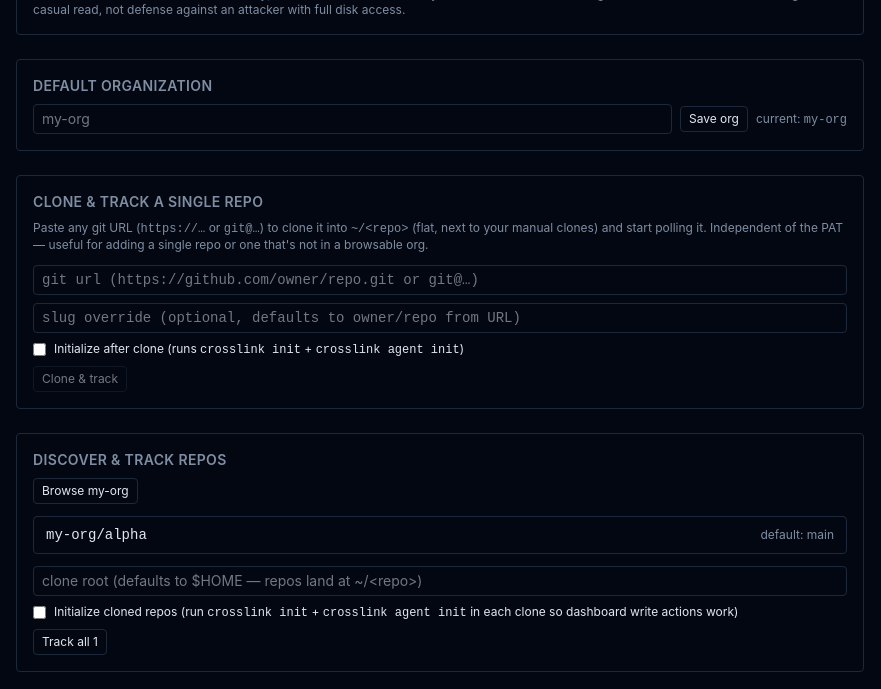
Test: SettingsGithub page › renders track outcome after a successful track-all
(page scrolled)
Click the button "Browse my-org" at [85, 491], box x1=33 y1=478 x2=138 y2=504
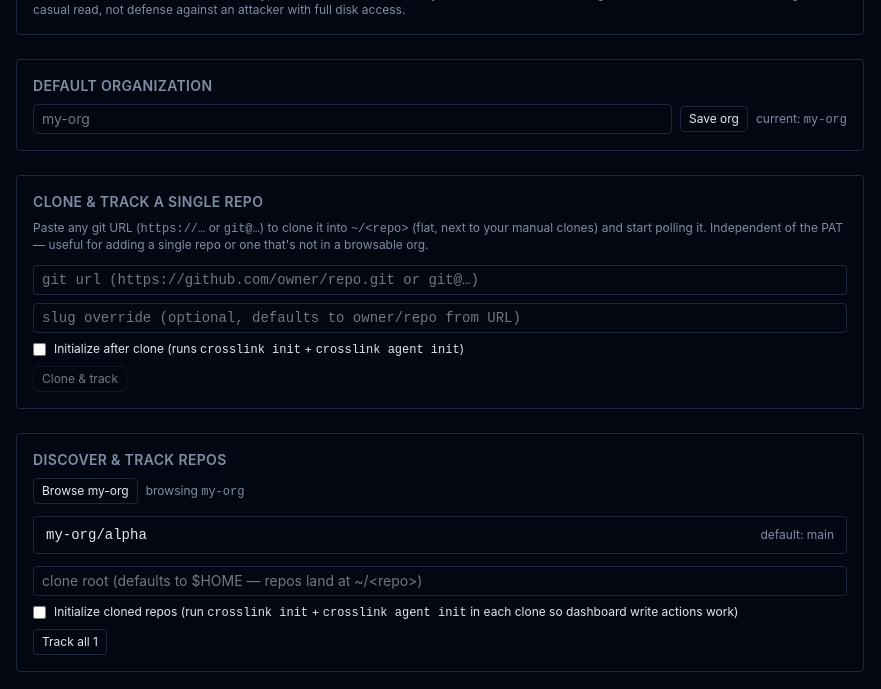
Click the button "Track all 1" at [70, 642], box x1=33 y1=629 x2=107 y2=655
(page scrolled)
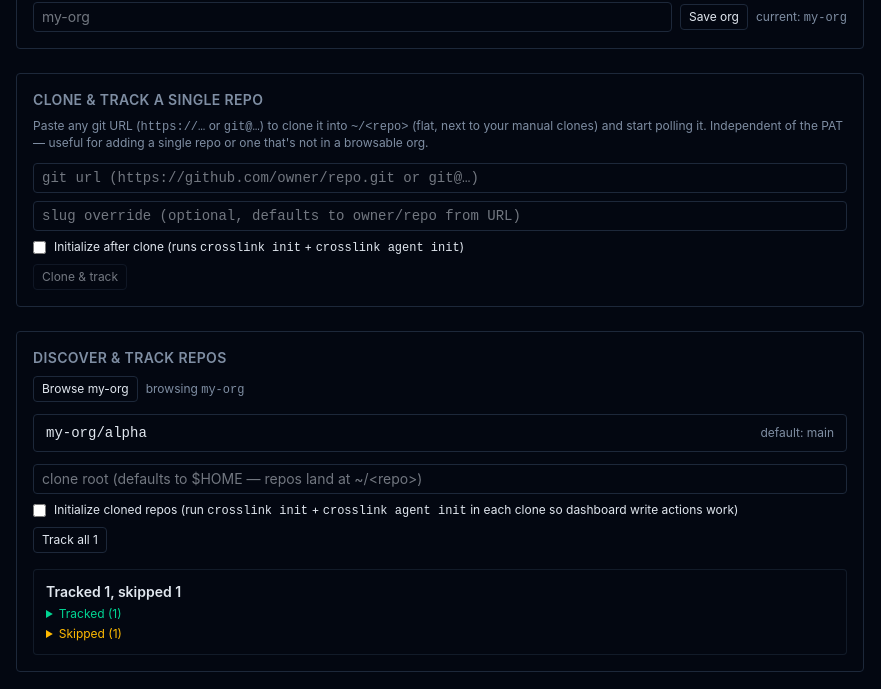
expect the text "Tracked 1, skipped 1" is shown: met, box x1=46 y1=583 x2=181 y2=600
expect the heading "Tracked (1)" is shown: met, box x1=59 y1=606 x2=122 y2=621
expect the heading "Skipped (1)" is shown: met, box x1=59 y1=626 x2=122 y2=641
